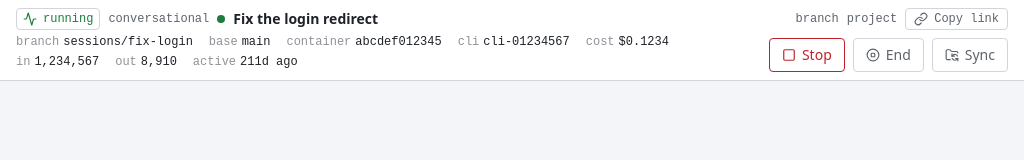
Test: SessionTitle › cancels an edit with the button beside the field
The width and height of the screenshot is (1024, 160).
Click the button with aria-label "Edit title": click(306, 19) [233,9,378,29]
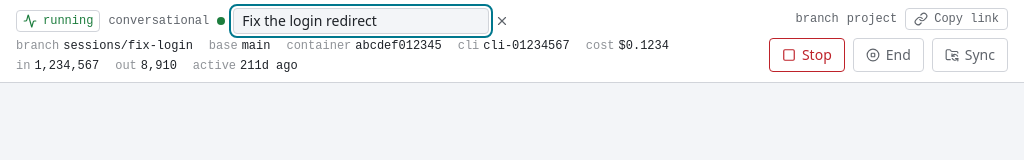
Replace the text in the field named "Session title" with "Something else": (361, 21) [233,8,489,34]
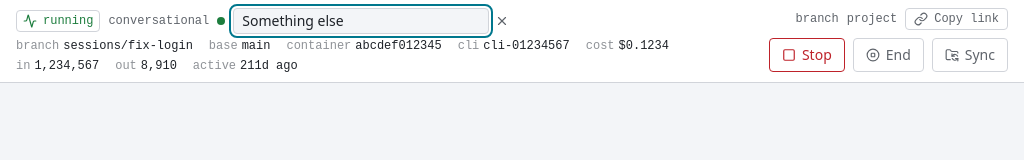
Click the button named "Cancel rename": click(502, 21) [493,12,511,30]
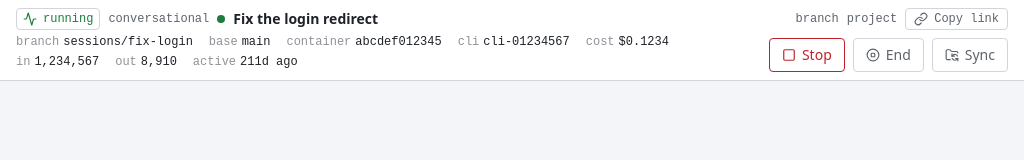
expect the button with aria-label "Edit title" reads "Fix the login redirect": met, box [233,9,378,29]
